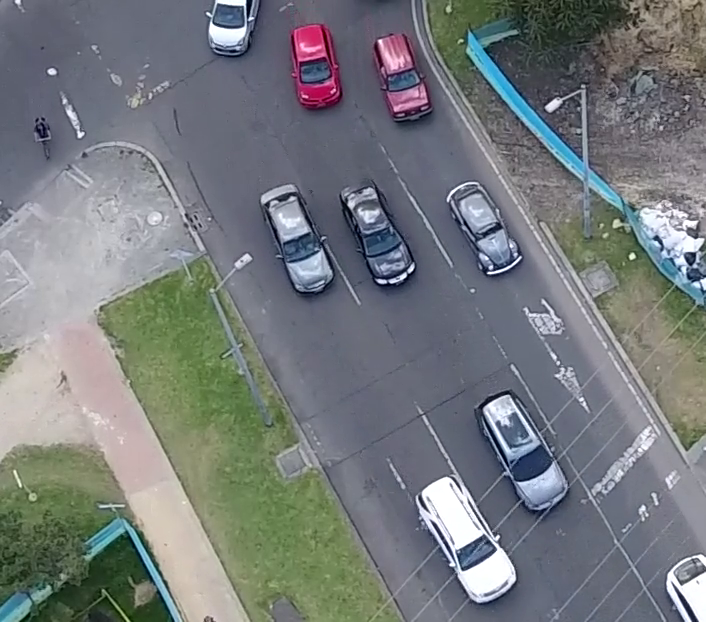car: (411, 473, 521, 607), (473, 387, 572, 514), (335, 175, 419, 296), (255, 180, 336, 302), (442, 175, 524, 280), (368, 30, 434, 127), (285, 19, 343, 112)
